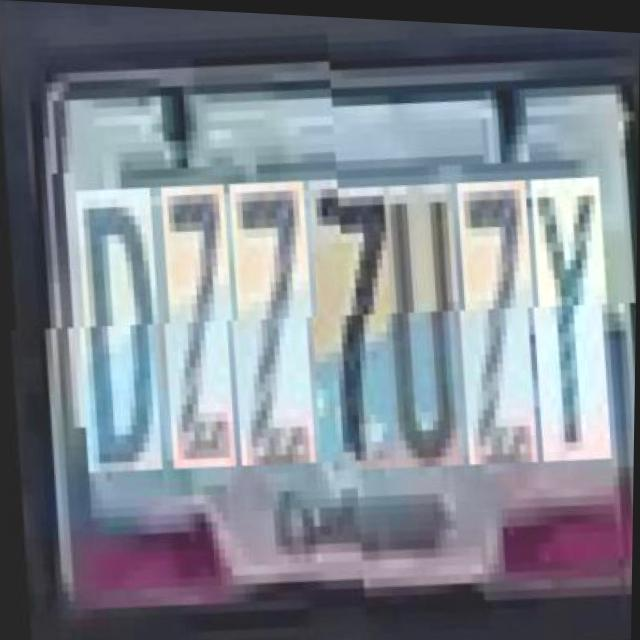7: (303, 187, 398, 476)
d: (71, 195, 166, 484)
u: (378, 185, 466, 474)
y: (524, 179, 614, 469)
z: (224, 190, 319, 478), (451, 182, 539, 472), (155, 193, 239, 482)
